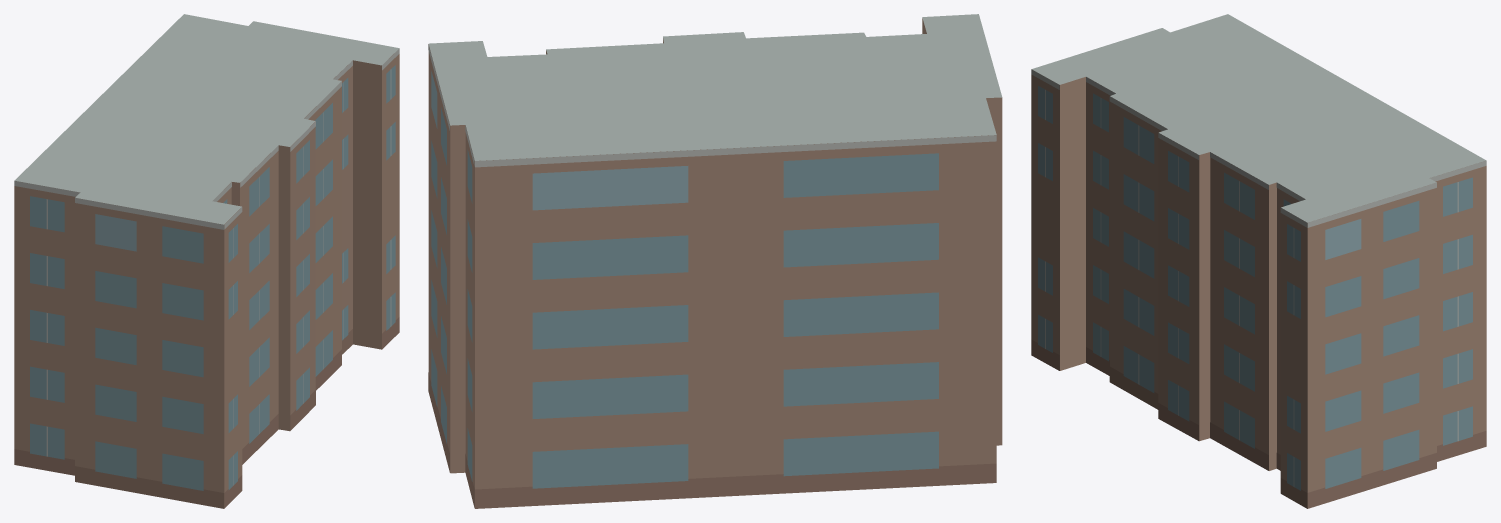
Rendered from survey-upis-33022278.glb.
3 views of the same model, side by side, from view 1: azimuth 30°, elevation 25°; view 2: azimuth 150°, elevation 25°; view 3: azimuth 270°, elevation 25° (orthographic). The views are drawn at different scales.
Visible parts, largest first — view 1: survey-upis-33022278.tmp; view 2: survey-upis-33022278.tmp; view 3: survey-upis-33022278.tmp.
Boxes of the visible parts, box(x1,y1,x2,y2) form: survey-upis-33022278.tmp: box(14, 14, 399, 508); survey-upis-33022278.tmp: box(428, 14, 1002, 508); survey-upis-33022278.tmp: box(1031, 14, 1486, 508).
Size of the model in its own units: 20.65 by 13.2 by 19.03.
